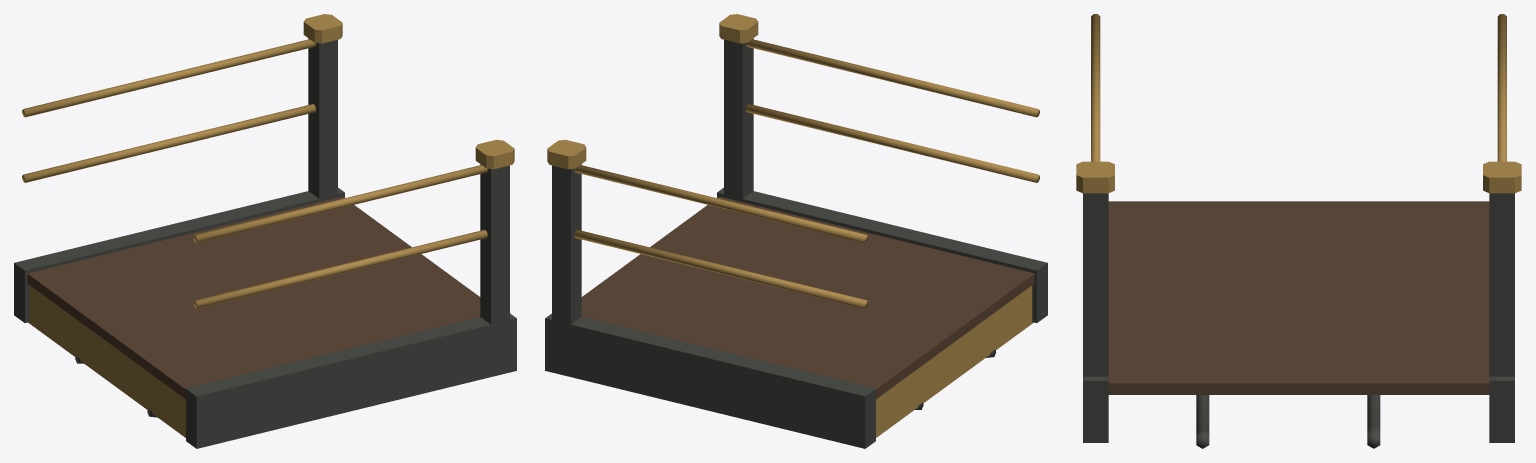
Rendered from b1_walkway.glb.
The picture shows the model from 3 angles, left to right: view 1: azimuth 30°, elevation 25°; view 2: azimuth 150°, elevation 25°; view 3: azimuth 270°, elevation 25°; orthographic projection. The views are drawn at different scales.
Parts seen in each view (by area): view 1: b1_walkway; view 2: b1_walkway; view 3: b1_walkway.
Part boxes in pixels (x1,y1,x2,y2): b1_walkway: (14,14,516,448); b1_walkway: (545,14,1047,448); b1_walkway: (1076,14,1521,448).
Bounding box in the file's own units: 2.04 × 1.61 × 2.08.
